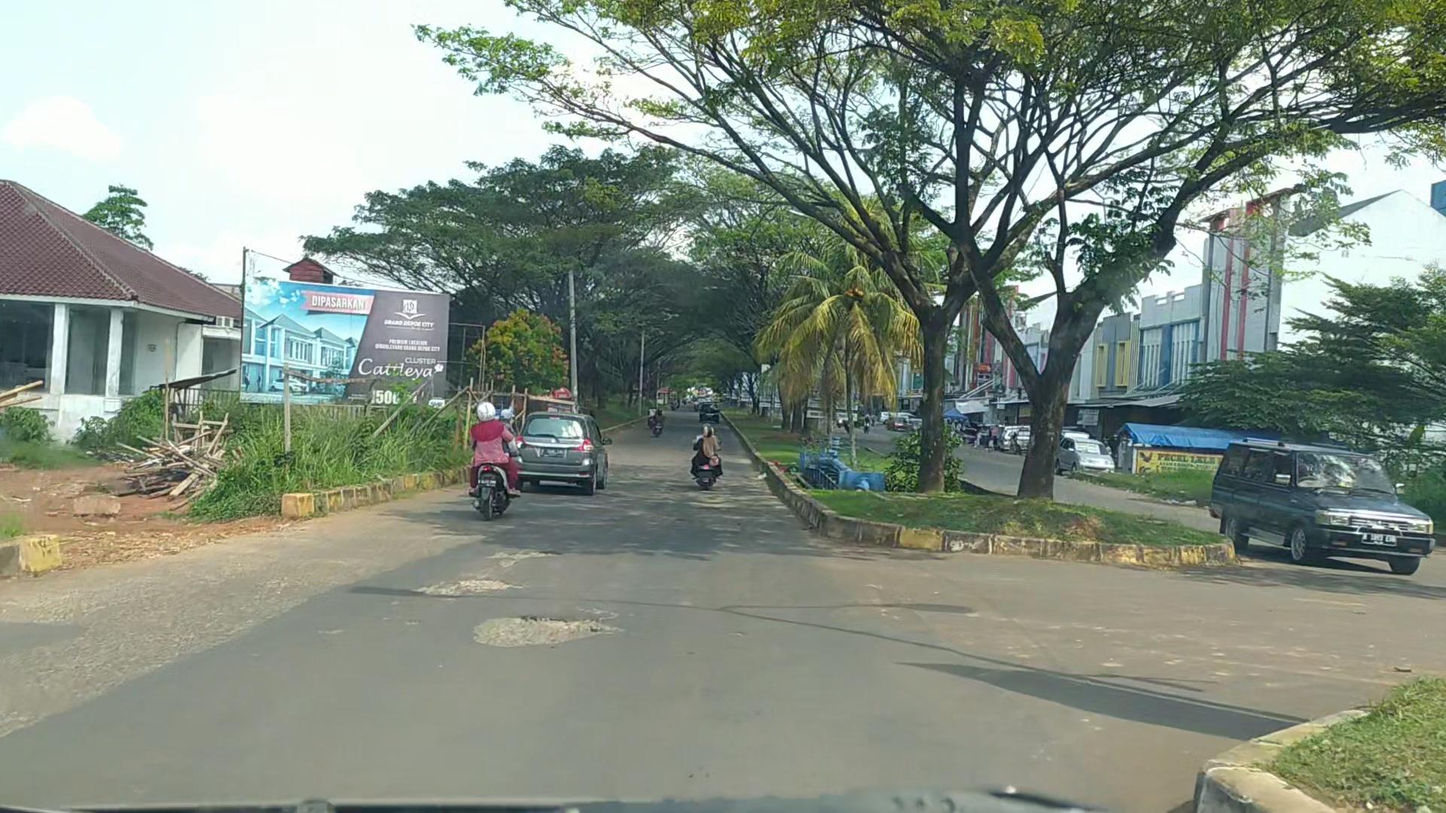pothole: (472, 616, 621, 649), (414, 578, 520, 604), (481, 550, 564, 570)
